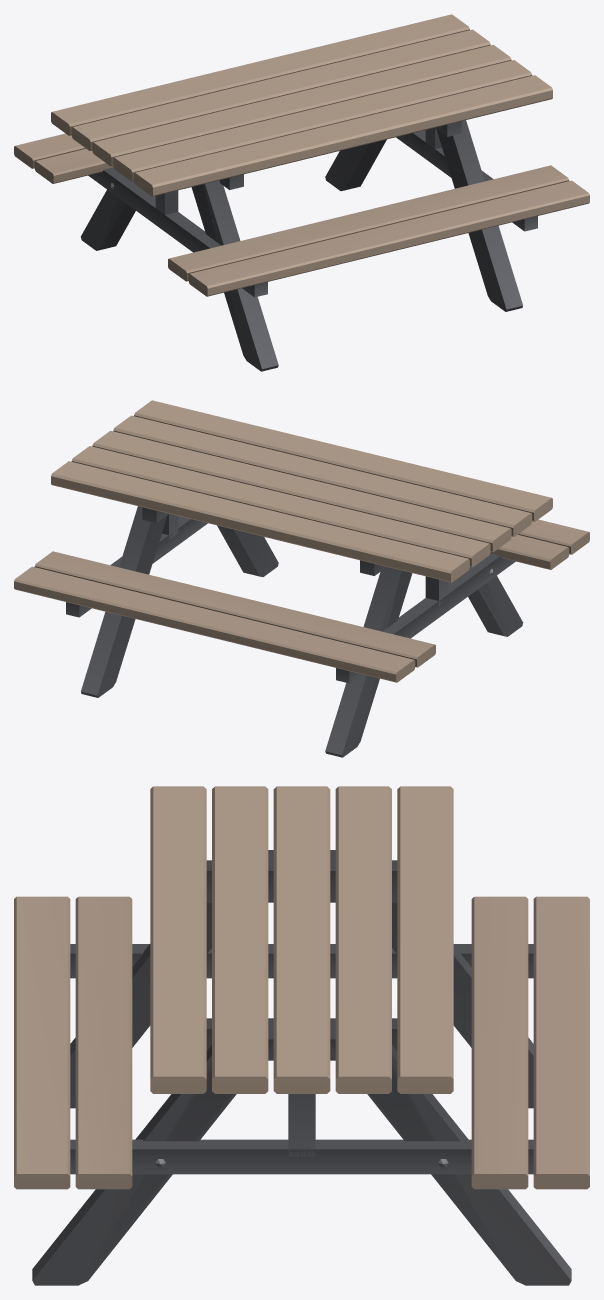
File: picnic.glb
The picture shows the model from 3 angles, top to bottom: view 1: azimuth 30°, elevation 25°; view 2: azimuth 150°, elevation 25°; view 3: azimuth 270°, elevation 25°; orthographic projection. The views are drawn at different scales.
Visible parts, largest first — view 1: picnic; view 2: picnic; view 3: picnic.
Part boxes in pixels (x1,y1,x2,y2): picnic: [14, 14, 589, 371]; picnic: [14, 400, 589, 757]; picnic: [14, 786, 589, 1285].
Size of the model in its own units: 1.8 by 0.75 by 1.51.
